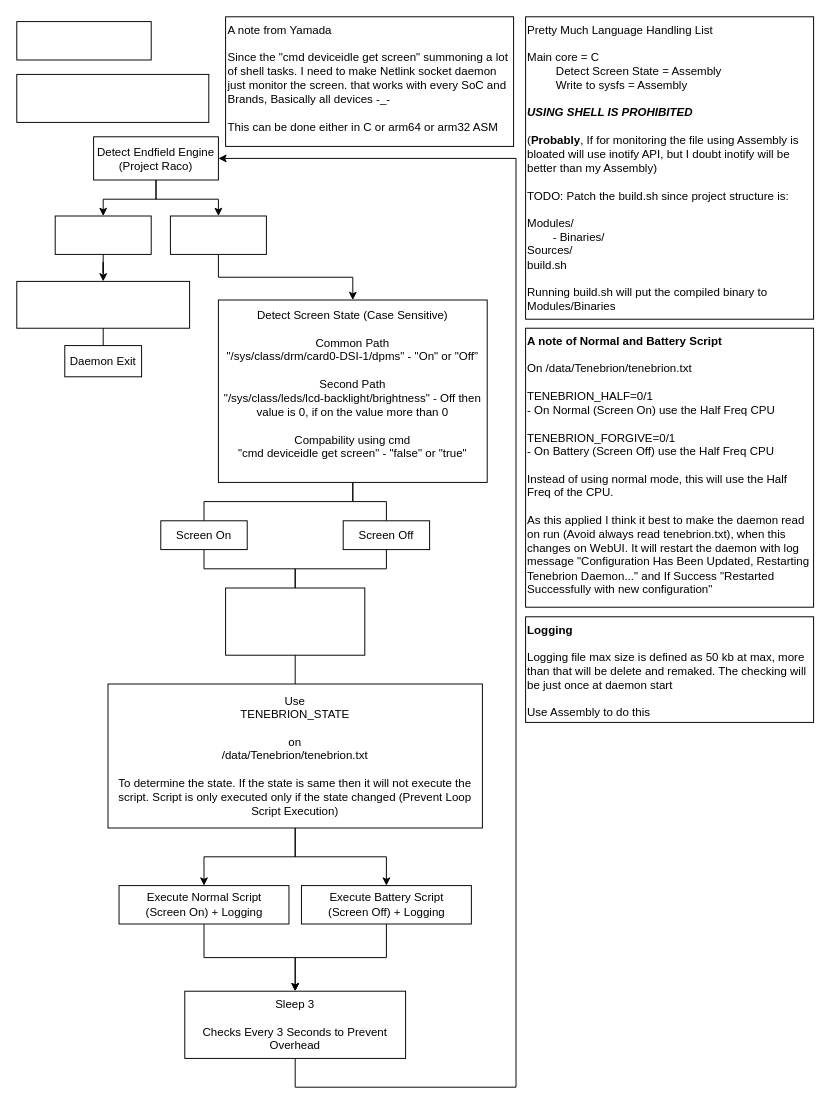
Some shapes in this 830 by 1112 pixel diagram are drawn without their labels. The centre of each missing label's shape, as x and y in pixels:
Daemon Stop With Message "Tenebrion Blocked, Please Disable Endfield Engine": pixel 103 304
Detected Endfield: pixel 102 234
No Endfield Detected: pixel 217 234
Tenebrion Battery By: Kanagawa Yamada: pixel 83 40
Tenebrion Core (Main Daemon) - C / ASM arm64 (NO SUPPORT FOR 32 BIT): pixel 112 97
Write the state 0 = Screen Off 1 = Screen On: pixel 295 621
